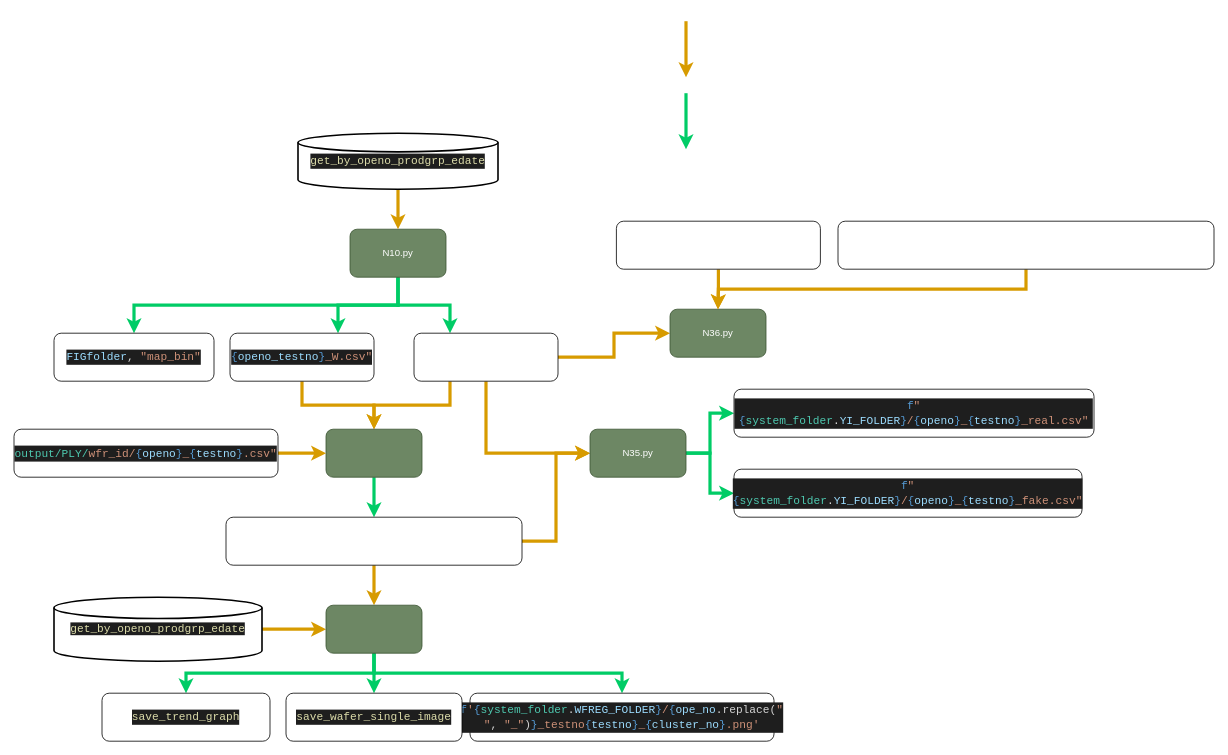
Some shapes in this 1228 by 755 pixel diagram are drawn without their labels. Here are the shapes that lost their labels. From the top down, the centre of each, then its label:
point (718, 244): pd . read_csv ( input_file . PICKUP
point (1025, 244): tracemap_file = "../data/input_data/BiCS6/A/map_tracking/tracemap.csv"
point (485, 356): { openo_testno } _H.csv
point (373, 452): N30.py
point (373, 540): { system_folder . DATAfolder } /cluster_waferid.csv
point (373, 628): N31_32.py
